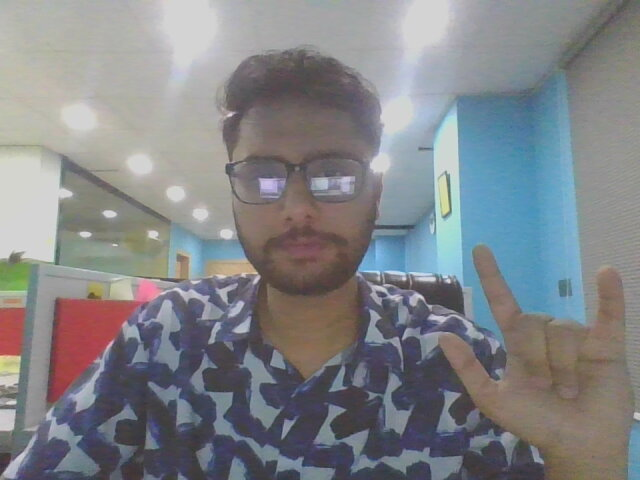iloveyou: (430, 234, 640, 462)
